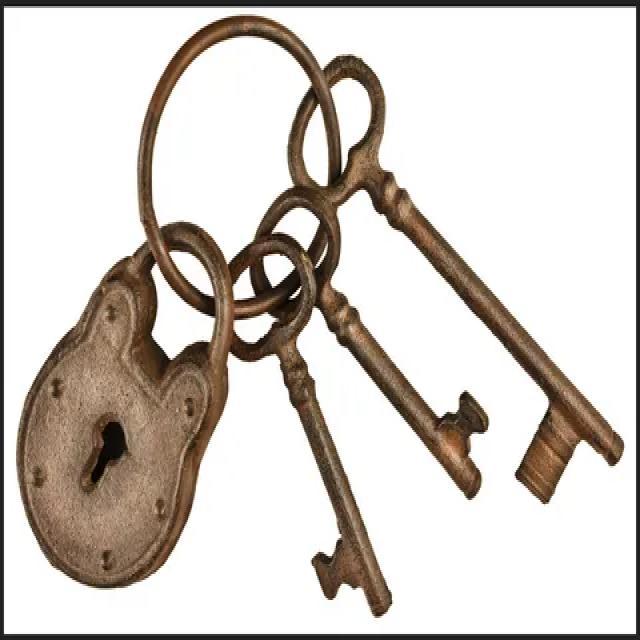key: (220, 217, 408, 620)
